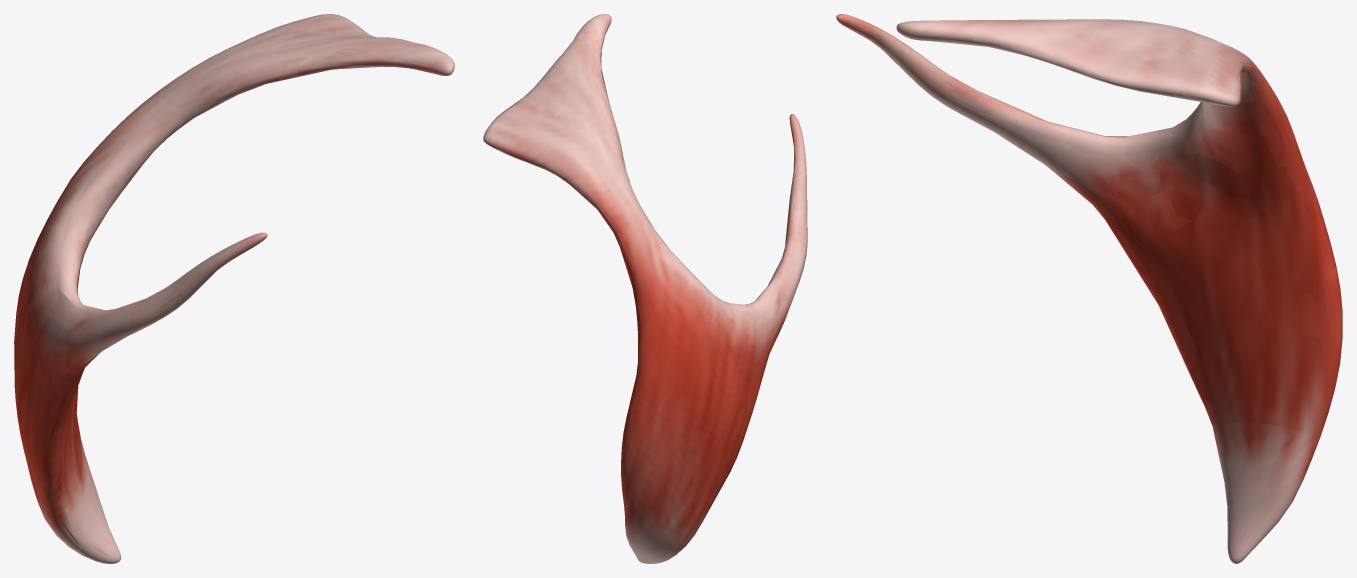
The model's file is R Gluteus Superficialis.fbx.
The picture shows the model from 3 angles, left to right: view 1: azimuth 30°, elevation 25°; view 2: azimuth 150°, elevation 25°; view 3: azimuth 270°, elevation 25°; orthographic projection. The views are drawn at different scales.
Parts seen in each view (by area): view 1: R Gluteus Superficialis, R Gluteus Superficialis low; view 2: R Gluteus Superficialis, R Gluteus Superficialis low; view 3: R Gluteus Superficialis, R Gluteus Superficialis low.
Boxes of the visible parts, <box> form: R Gluteus Superficialis: <box>14,14,454,563</box>; R Gluteus Superficialis low: <box>14,17,453,560</box>; R Gluteus Superficialis: <box>483,14,807,563</box>; R Gluteus Superficialis low: <box>483,23,807,562</box>; R Gluteus Superficialis: <box>836,14,1342,563</box>; R Gluteus Superficialis low: <box>838,18,1341,546</box>.
Size of the model in its own units: 26.13 by 43.06 by 30.36.
